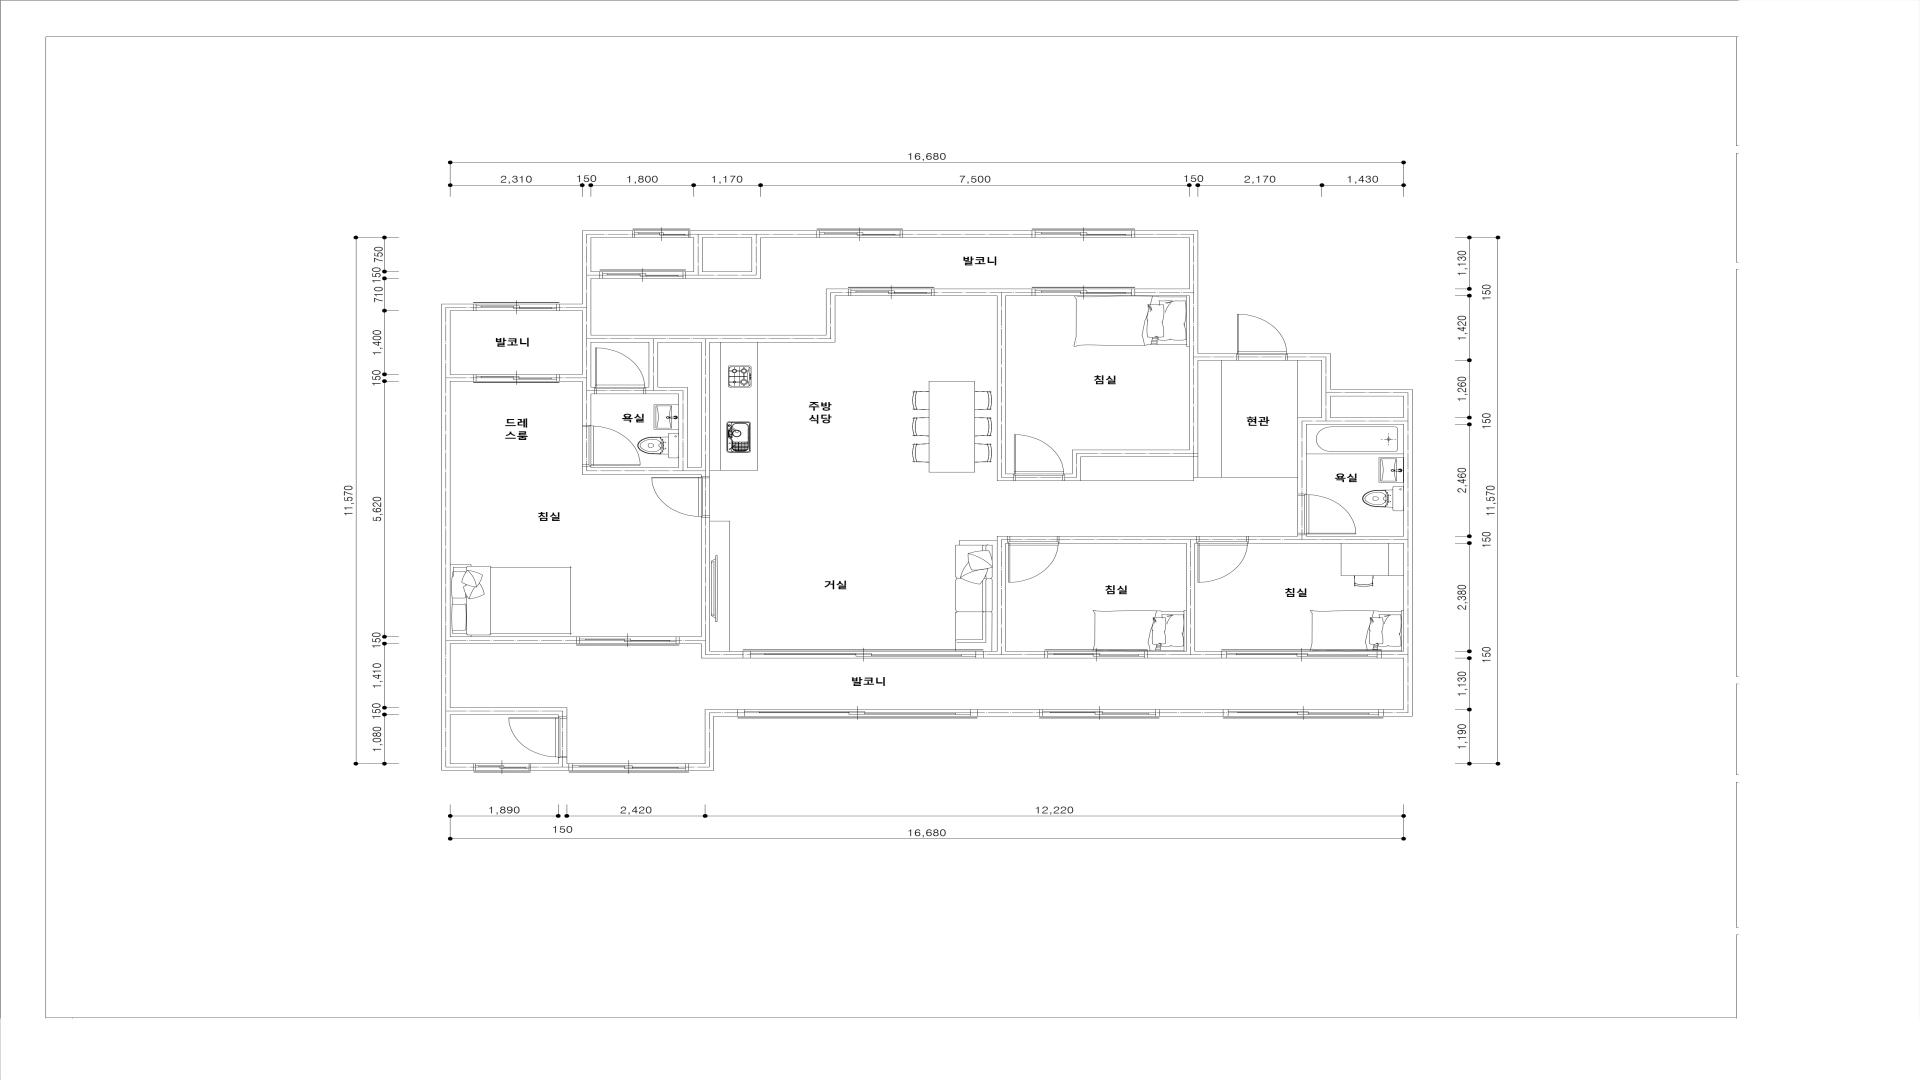door: (1196, 535, 1249, 584), (593, 347, 646, 394), (506, 717, 567, 758), (1007, 535, 1059, 583), (1236, 313, 1287, 360), (1013, 434, 1064, 481), (582, 426, 641, 467), (1298, 495, 1357, 535), (651, 476, 709, 517), (744, 651, 982, 658), (1221, 651, 1382, 658), (576, 637, 679, 644), (1044, 651, 1147, 658), (1033, 289, 1134, 295), (473, 375, 559, 381), (848, 289, 934, 295), (600, 272, 686, 278)
wall: (1059, 535, 1222, 658), (934, 289, 1033, 481), (582, 343, 709, 476), (1064, 360, 1199, 481), (1134, 231, 1237, 360), (442, 381, 475, 770), (1298, 396, 1403, 495), (679, 517, 744, 658), (982, 535, 1044, 658), (709, 289, 848, 343), (591, 335, 709, 386), (690, 231, 818, 278), (559, 231, 633, 311), (1382, 535, 1412, 716), (1287, 353, 1412, 397), (559, 311, 595, 426), (646, 386, 687, 467), (688, 709, 737, 770), (686, 237, 752, 278), (442, 303, 473, 381), (1249, 534, 1403, 543), (1403, 396, 1412, 535), (451, 707, 567, 717), (902, 231, 1033, 237), (451, 637, 576, 644), (530, 758, 570, 770), (1159, 709, 1224, 716), (977, 709, 1039, 716), (1134, 289, 1189, 295)
window: (737, 709, 977, 716), (1222, 709, 1383, 716), (1039, 709, 1159, 716), (570, 764, 688, 770), (1033, 231, 1135, 237), (473, 303, 559, 311), (818, 231, 902, 237), (473, 764, 530, 770), (633, 231, 690, 237)
